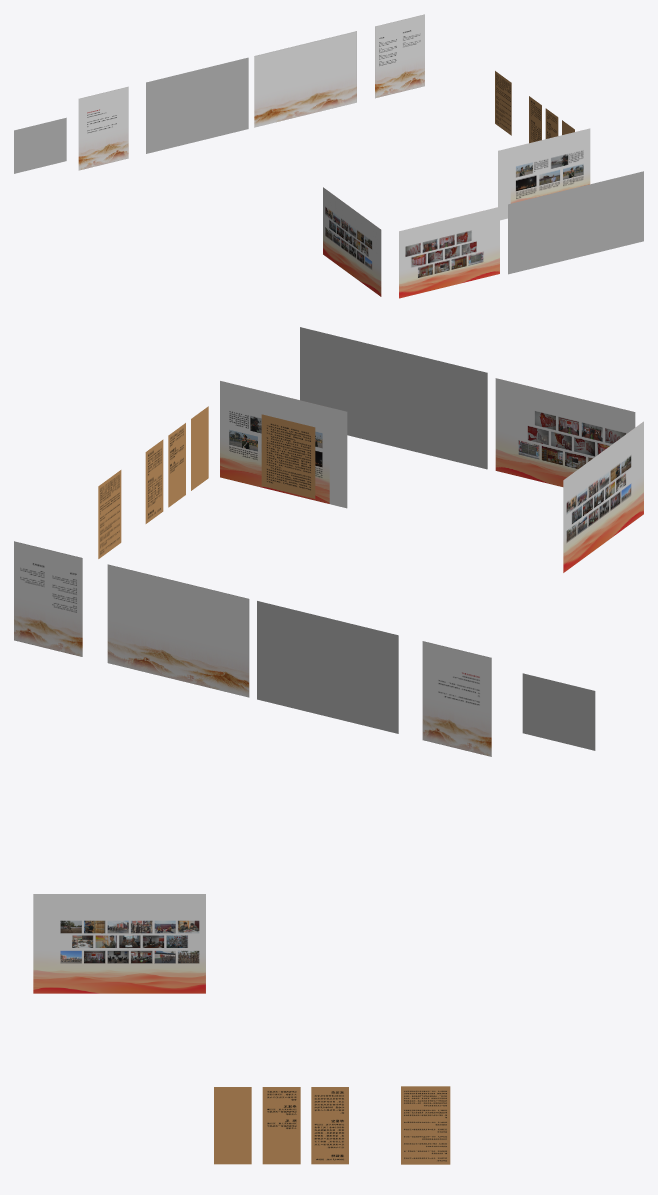
The picture shows the model from 3 angles, top to bottom: view 1: azimuth 30°, elevation 25°; view 2: azimuth 150°, elevation 25°; view 3: azimuth 270°, elevation 25°; orthographic projection. The views are drawn at different scales.
Visible parts, largest first — view 1: 机动1中队_建设成就, 机动1中队_发展历程右, 机动1中队_发展历程左, 机动1中队_军营文化, 机动1中队_重大任务, 机动1中队_官兵风采, 机动1中队_历史沿革, 机动1中队_历任主官, 机动1中队_前言, 机动1中队_集体荣誉, 机动1中队_个人荣誉左; view 2: 机动1中队_建设成就, 机动1中队_发展历程右, 机动1中队_发展历程左, 机动1中队_军营文化, 机动1中队_重大任务, 机动1中队_官兵风采, 机动1中队_历史沿革, 机动1中队_历任主官, 机动1中队_前言, 机动1中队_未来寄语, 机动1中队_集体荣誉, 机动1中队_个人荣誉左 (+2 smaller); view 3: 机动1中队_官兵风采, 机动1中队_集体荣誉, 机动1中队_个人荣誉中, 机动1中队_个人荣誉右, 机动1中队_个人荣誉左.
Part boxes in pixels (x1,y1,x2,y2): 机动1中队_建设成就: [508, 171, 643, 274]; 机动1中队_发展历程右: [254, 31, 356, 127]; 机动1中队_发展历程左: [146, 57, 248, 153]; 机动1中队_军营文化: [399, 207, 499, 298]; 机动1中队_重大任务: [498, 128, 590, 220]; 机动1中队_官兵风采: [323, 187, 381, 296]; 机动1中队_历史沿革: [78, 86, 128, 170]; 机动1中队_历任主官: [375, 14, 424, 98]; 机动1中队_前言: [14, 117, 66, 173]; 机动1中队_集体荣誉: [495, 71, 511, 135]; 机动1中队_个人荣誉左: [529, 96, 541, 143]; 机动1中队_建设成就: [300, 327, 487, 469]; 机动1中队_发展历程右: [107, 564, 249, 697]; 机动1中队_发展历程左: [257, 601, 398, 733]; 机动1中队_军营文化: [495, 378, 635, 486]; 机动1中队_重大任务: [220, 381, 347, 508]; 机动1中队_官兵风采: [563, 421, 643, 572]; 机动1中队_历史沿革: [422, 641, 491, 756]; 机动1中队_历任主官: [14, 541, 82, 656]; 机动1中队_前言: [522, 673, 595, 750]; 机动1中队_未来寄语: [261, 414, 315, 498]; 机动1中队_集体荣誉: [98, 470, 121, 558]; 机动1中队_个人荣誉左: [145, 439, 163, 523]; 机动1中队_官兵风采: [33, 894, 205, 993]; 机动1中队_集体荣誉: [401, 1086, 450, 1164]; 机动1中队_个人荣誉中: [262, 1087, 300, 1164]; 机动1中队_个人荣誉右: [214, 1087, 251, 1164]; 机动1中队_个人荣誉左: [311, 1087, 348, 1164].
Bounding box in the file's own units: 1325 × 216 × 1154.
